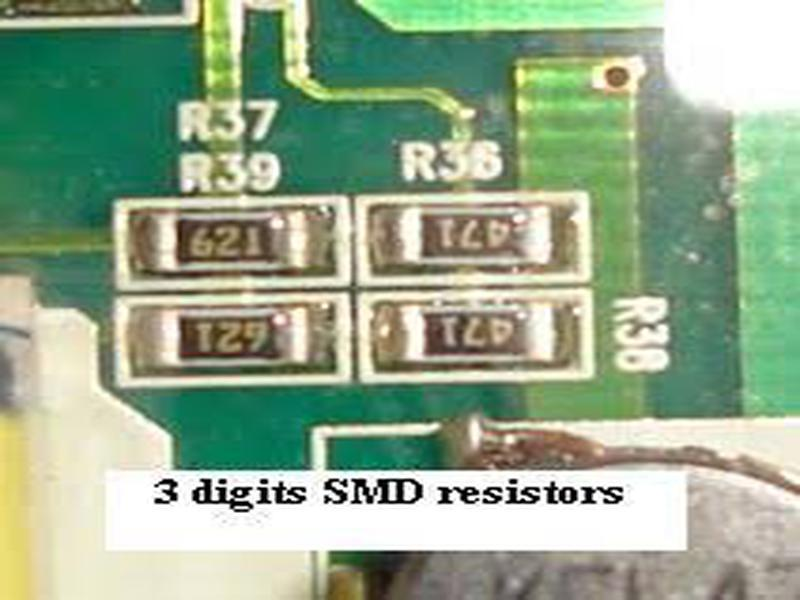SMD resistor: (141, 296, 323, 376), (133, 203, 315, 280), (390, 301, 555, 369), (394, 201, 554, 268)
